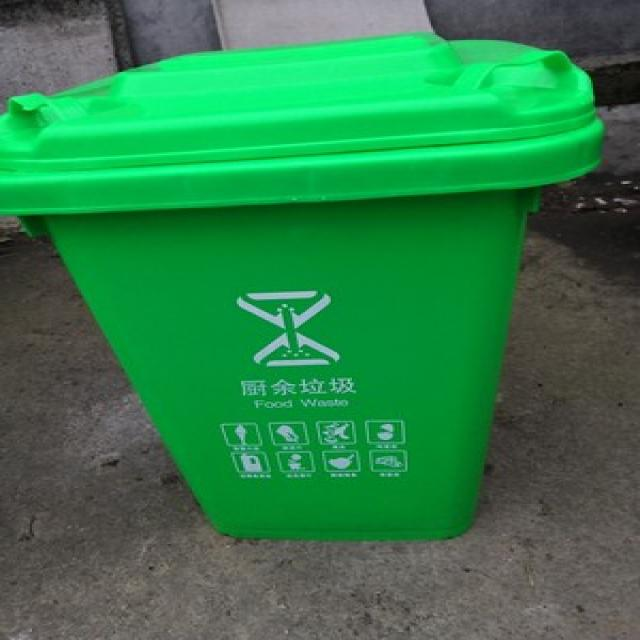ash bin: (7, 29, 600, 544)
